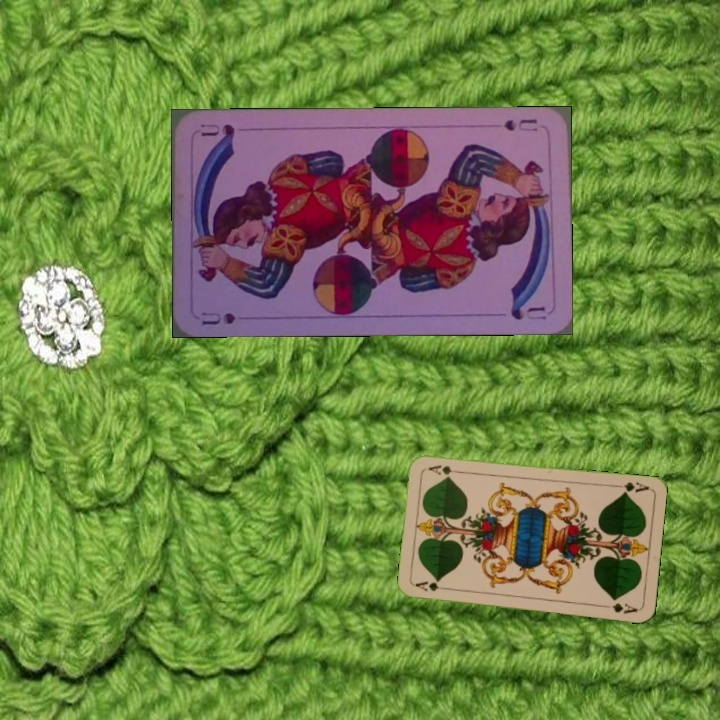GA: (610, 478, 651, 496), (411, 578, 452, 594)
SU: (197, 308, 238, 328), (500, 114, 540, 134)
